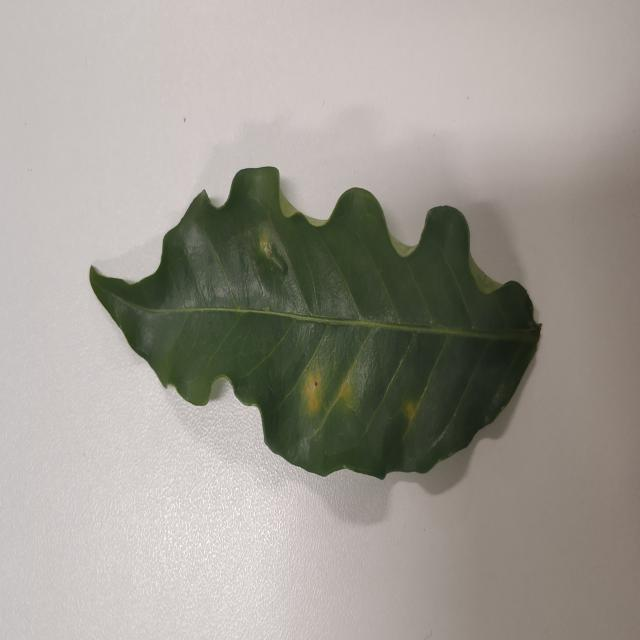Enfermedad-Roya: (87, 167, 542, 483)
